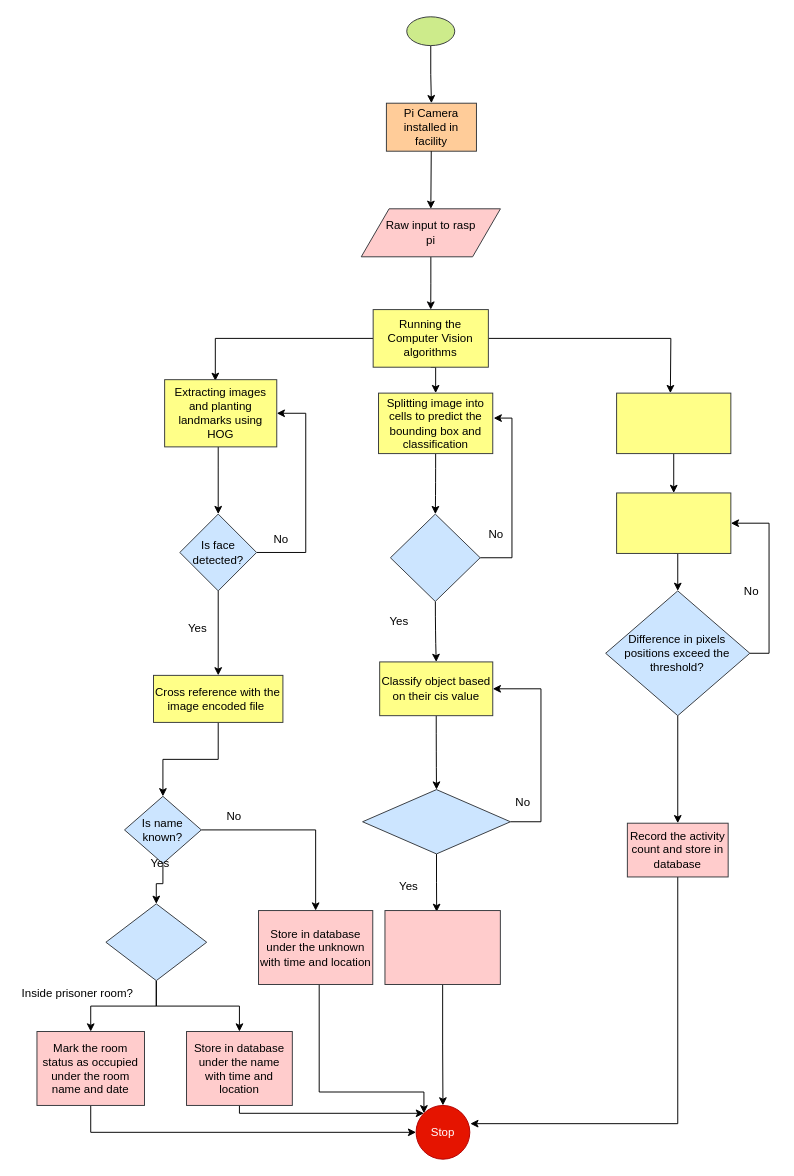
The diagram is 794 pixels wide and 1176 high, and some of its shapes have lost their labels. The centre of each missing label's shape, as x and y in pixels:
"Bounding box has an object?" goes at point (434, 557).
"Comparing next frame with reference frame" goes at point (673, 522).
"Is it?" goes at point (156, 942).
"Is object a knife or gun?" goes at point (436, 821).
"Start" goes at point (430, 31).
"Store in database with location and send notification" goes at point (442, 947).
"Taking first frame as reference" goes at point (673, 423).
